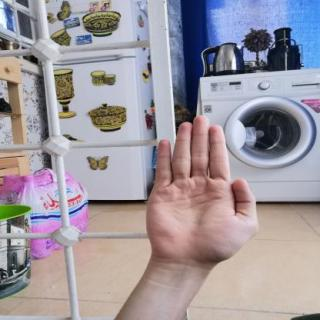SEEN: (136, 108, 266, 272)
